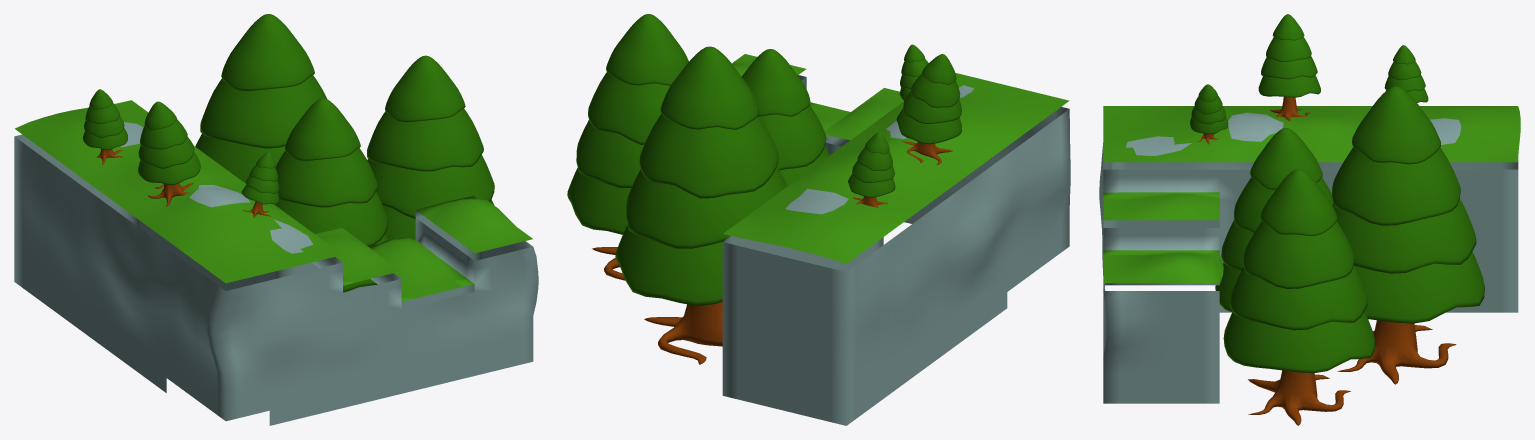
The model's file is east_mountain.glb.
3 views of the same model, side by side, from view 1: azimuth 30°, elevation 25°; view 2: azimuth 150°, elevation 25°; view 3: azimuth 270°, elevation 25° (orthographic). The views are drawn at different scales.
Parts seen in each view (by area): view 1: EastMountain, Pinetree.003, Pinetree.002, Pinetree.001, Pinetree.007, Pinetree.006, Pinetree.008; view 2: EastMountain, Pinetree.002, Pinetree.003, Pinetree.001, Pinetree.007, Pinetree.006, Pinetree.008; view 3: EastMountain, Pinetree.002, Pinetree.003, Pinetree.001, Pinetree.007, Pinetree.008, Pinetree.006.
Part boxes in pixels (x1=…): EastMountain: x1=14, y1=100, x2=538, y2=425; Pinetree.003: x1=367, y1=55, x2=494, y2=240; Pinetree.002: x1=195, y1=14, x2=326, y2=183; Pinetree.001: x1=274, y1=98, x2=388, y2=292; Pinetree.007: x1=138, y1=101, x2=200, y2=206; Pinetree.006: x1=82, y1=89, x2=127, y2=165; Pinetree.008: x1=241, y1=152, x2=279, y2=217; EastMountain: x1=722, y1=54, x2=1070, y2=425; Pinetree.002: x1=615, y1=46, x2=787, y2=364; Pinetree.003: x1=567, y1=14, x2=688, y2=280; Pinetree.001: x1=741, y1=49, x2=829, y2=186; Pinetree.007: x1=896, y1=54, x2=961, y2=164; Pinetree.006: x1=848, y1=132, x2=895, y2=207; Pinetree.008: x1=899, y1=44, x2=928, y2=100; EastMountain: x1=1099, y1=106, x2=1520, y2=403; Pinetree.002: x1=1332, y1=86, x2=1484, y2=384; Pinetree.003: x1=1223, y1=169, x2=1375, y2=425; Pinetree.001: x1=1215, y1=128, x2=1332, y2=312; Pinetree.007: x1=1258, y1=14, x2=1320, y2=121; Pinetree.008: x1=1190, y1=84, x2=1228, y2=144; Pinetree.006: x1=1384, y1=45, x2=1428, y2=102.
Bounding box in the file's own units: 25.53 × 17.83 × 25.42.
